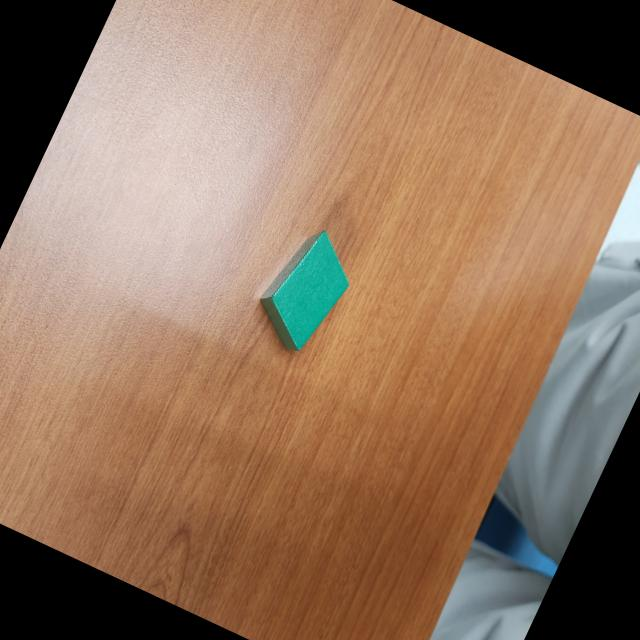green: (245, 218, 368, 364)
